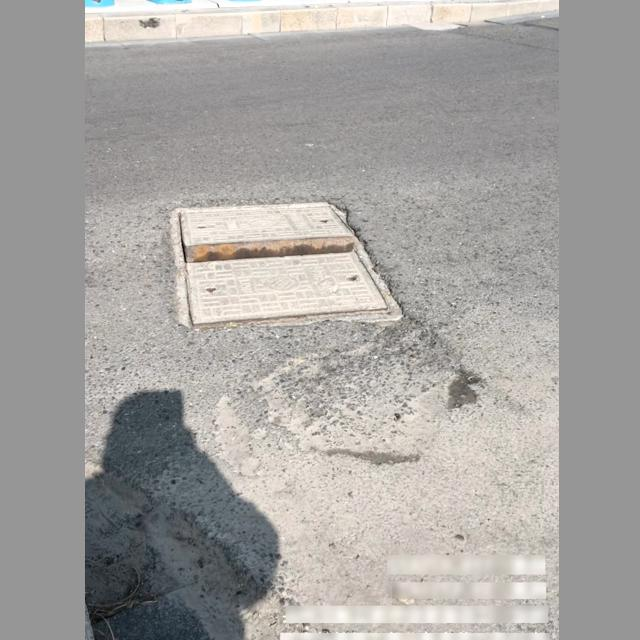uncovered: (167, 200, 402, 330)
